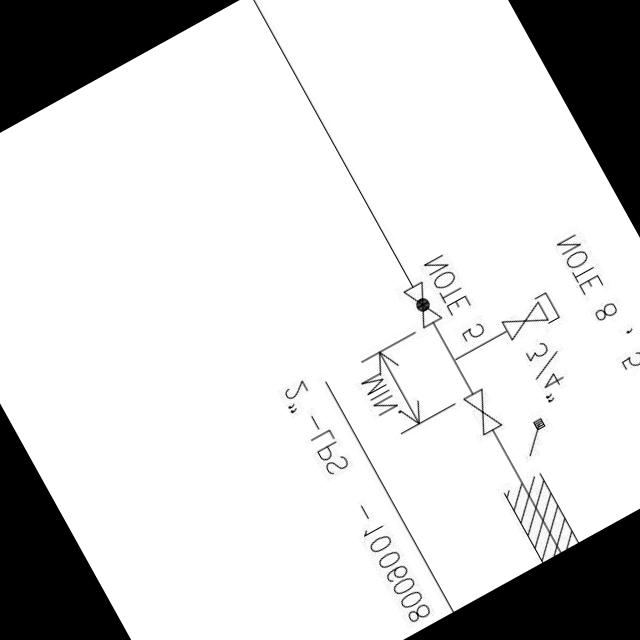BV2: (396, 274, 448, 334)
EC: (464, 286, 568, 366)
GV: (458, 382, 508, 442), (495, 297, 551, 344)
